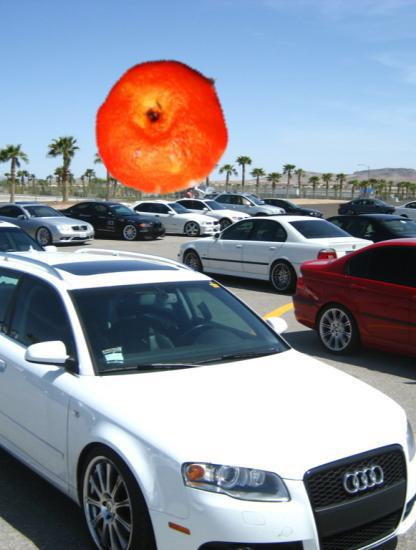Clementine: (93, 56, 235, 198)
